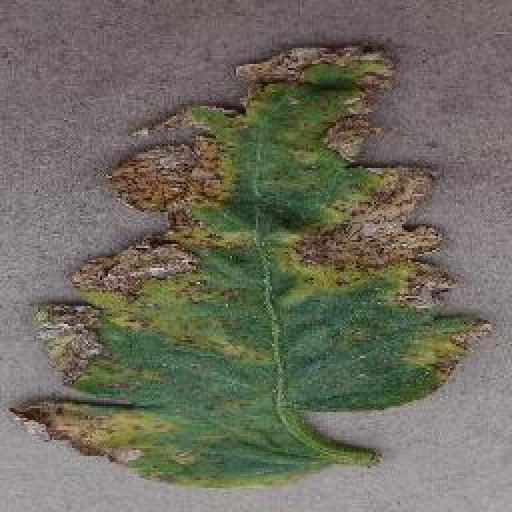Bacterial Spot: (3, 30, 493, 494)
